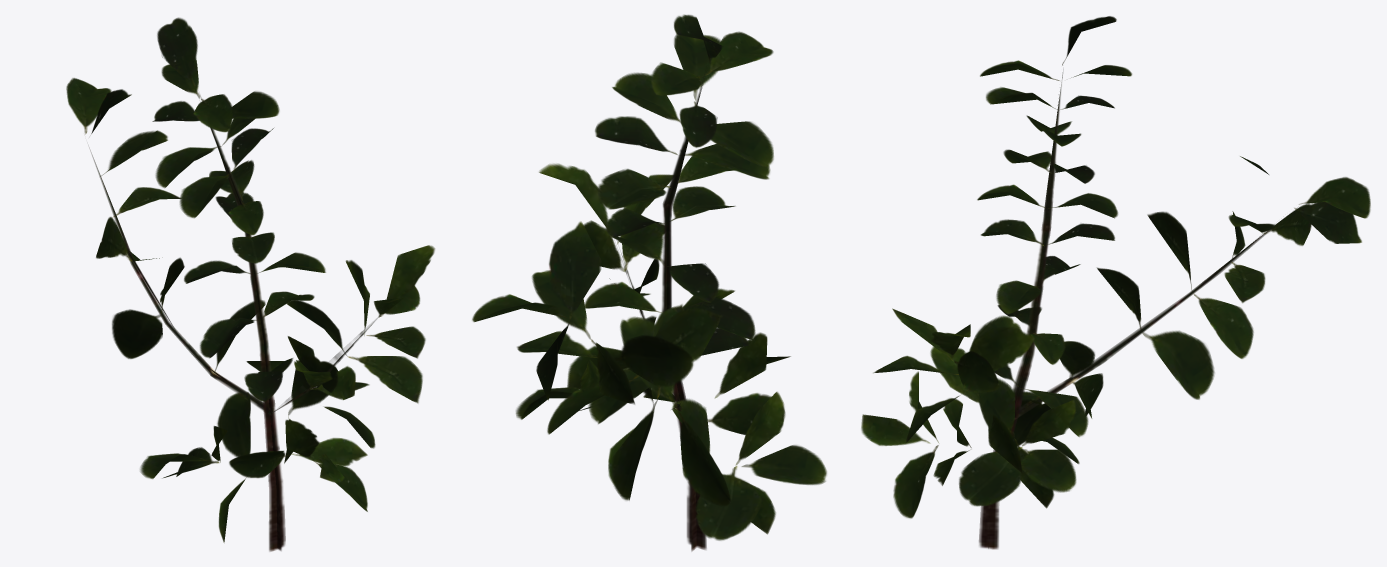
File: veg-34.glb
3 views of the same model, side by side, from view 1: azimuth 30°, elevation 25°; view 2: azimuth 150°, elevation 25°; view 3: azimuth 270°, elevation 25° (orthographic). The views are drawn at different scales.
Parts seen in each view (by area): view 1: _4giq_VarG_LOD2_34; view 2: _4giq_VarG_LOD2_34; view 3: _4giq_VarG_LOD2_34.
Boxes of the visible parts, x1,y1,x2,y2 form: _4giq_VarG_LOD2_34: [66, 17, 434, 551]; _4giq_VarG_LOD2_34: [472, 14, 826, 551]; _4giq_VarG_LOD2_34: [861, 16, 1370, 549].
Bounding box in the file's own units: 0.2659 × 0.48 × 0.4307.
Materials: 1 (1 with a texture image).
